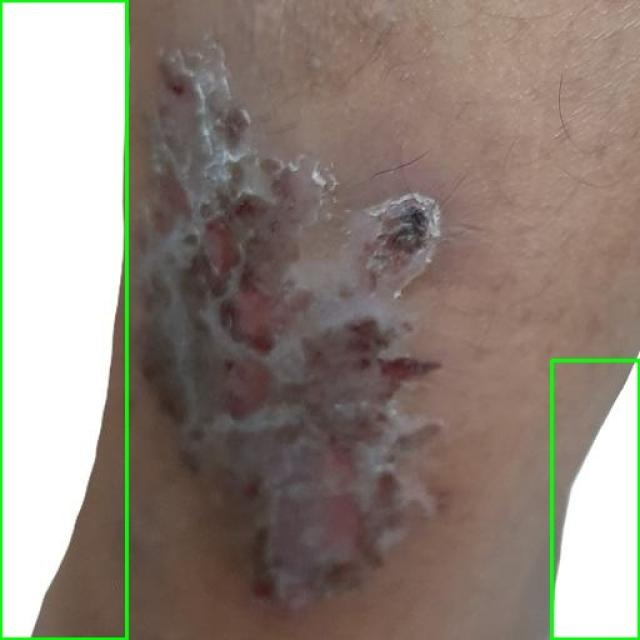Contact Dermatitis: (0, 0, 126, 639), (551, 360, 639, 639)
